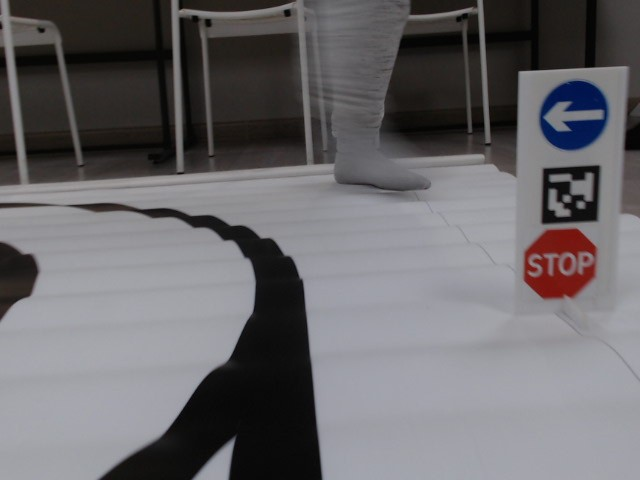Stop: (521, 229, 599, 301)
